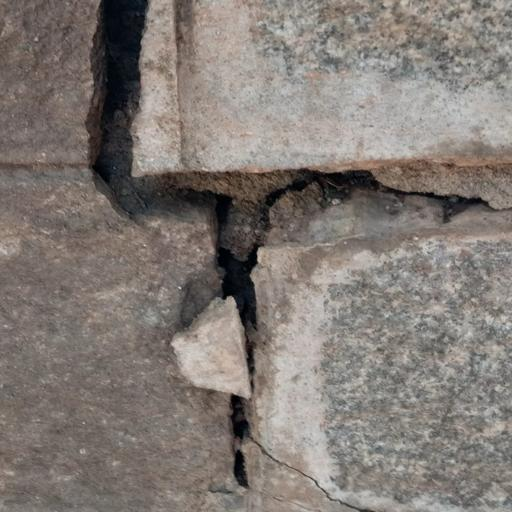major_crack: (70, 0, 501, 500)
